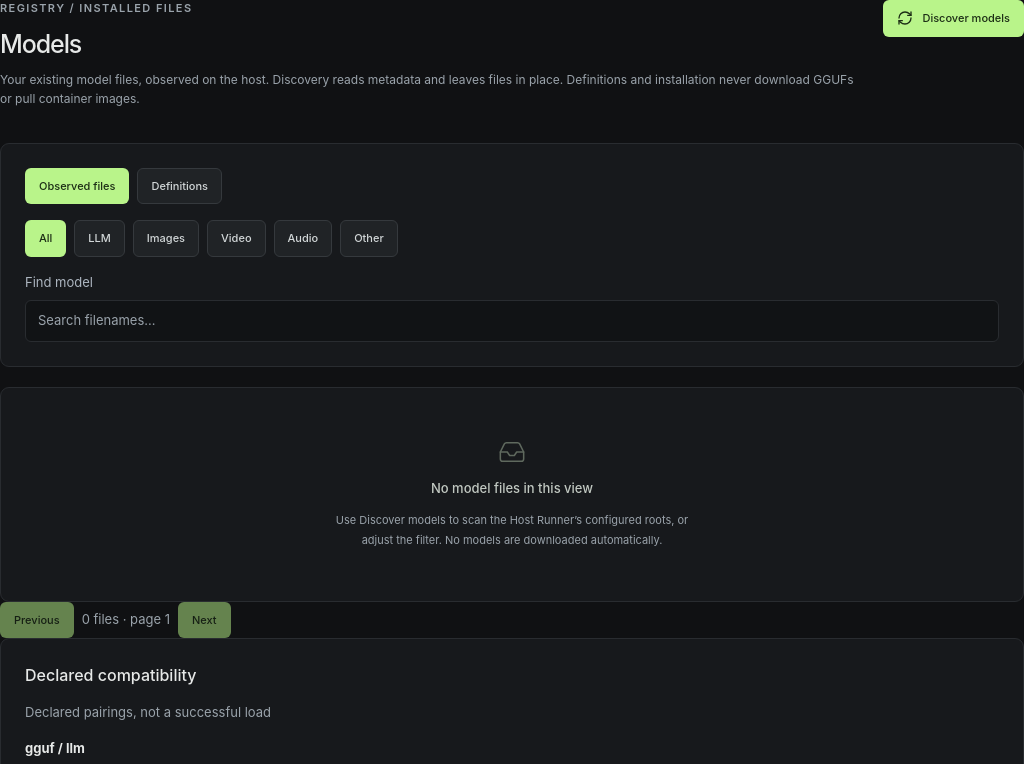
Test: saves a definition and installs it only after an explicit action
This screenshot has width=1024, height=764.
Expected: the text "Declared pairings, not a successful load" is shown, 25,704 -> 271,720
Click the button "Definitions" at {"x": 180, "y": 186}, box 138,168 -> 222,204
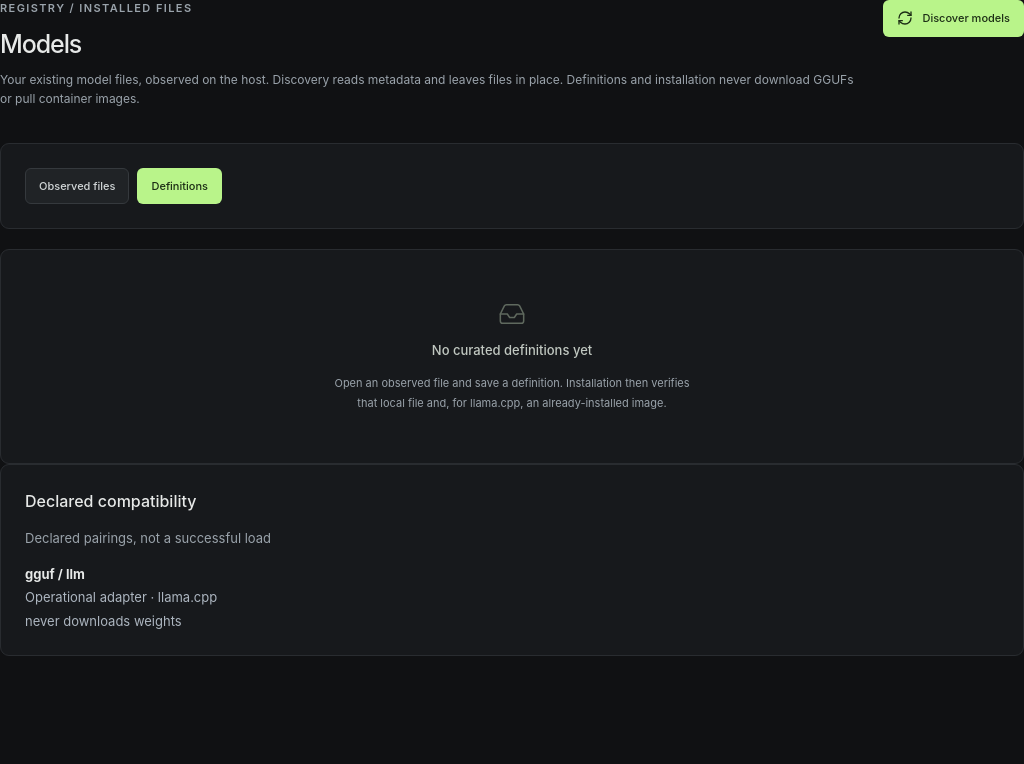
Expected: the heading "No curated definitions yet" is shown, 432,341 -> 592,361
